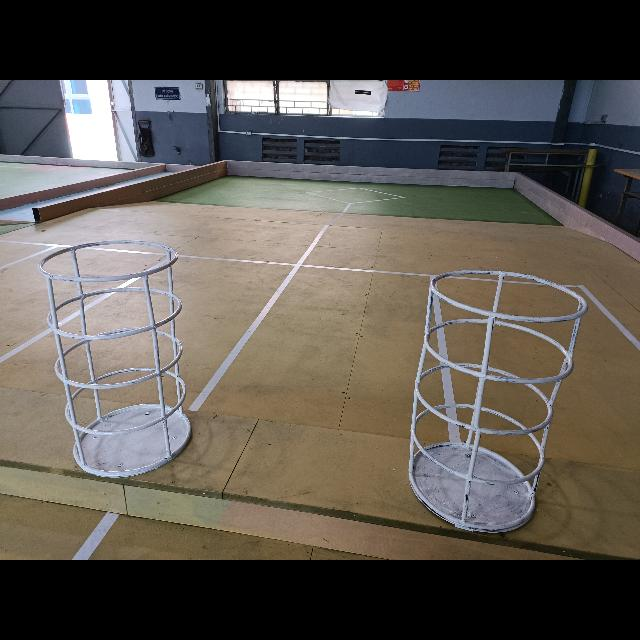S: (408, 270, 587, 535), (37, 240, 192, 479)
